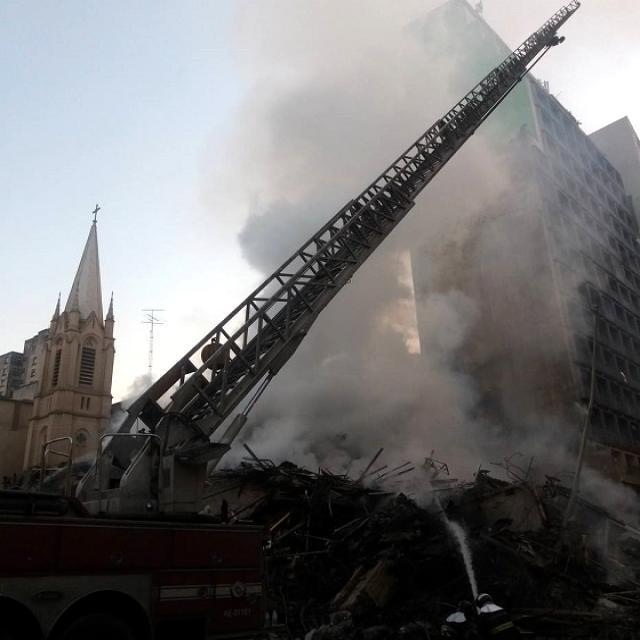Smoke: (127, 0, 636, 473)
